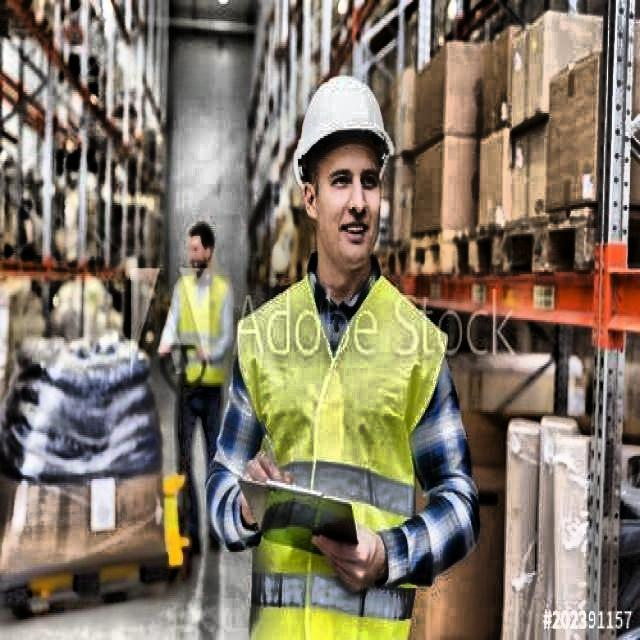safety_helmet: (286, 65, 394, 180)
safety_jacket: (243, 282, 438, 628), (173, 271, 230, 388)
